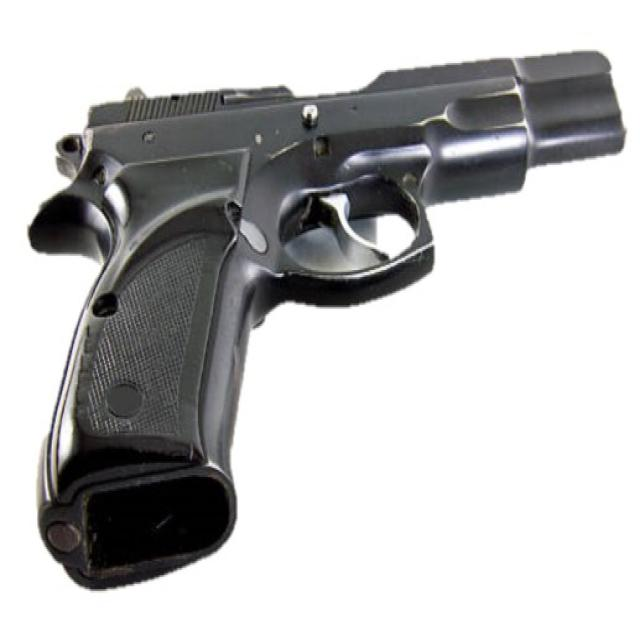pistol: (27, 38, 637, 600)
